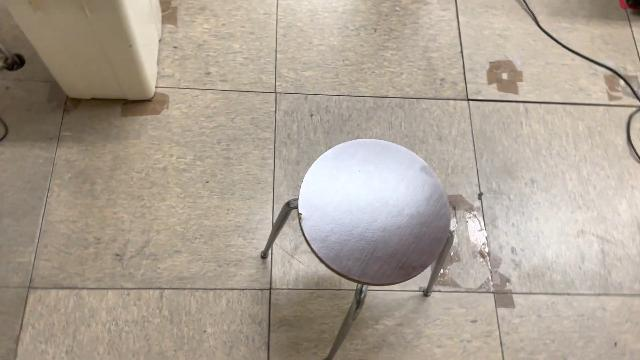Stool: (255, 134, 457, 360)
